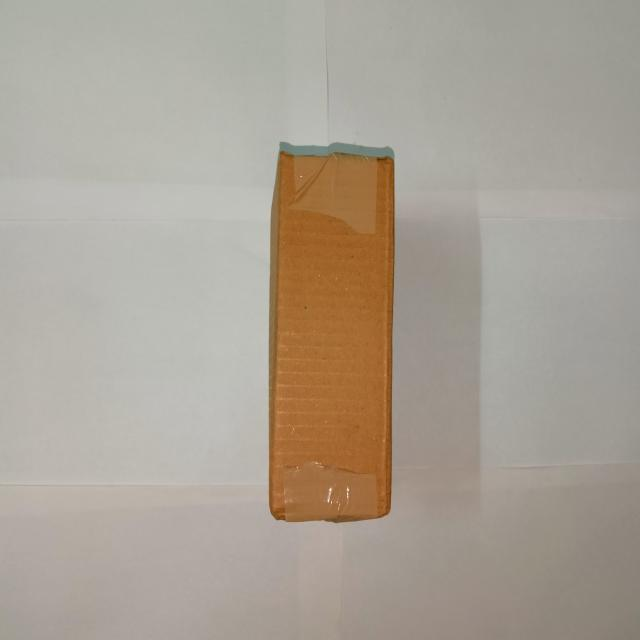box: (270, 152, 396, 527)
